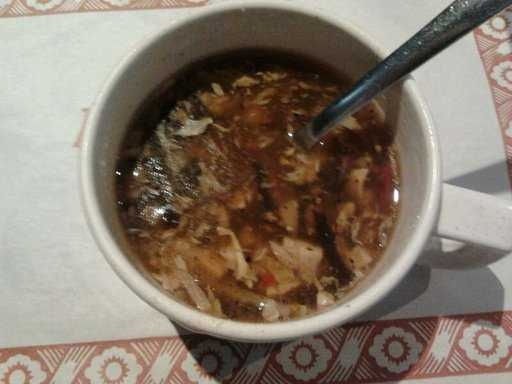soup: (106, 29, 410, 327)
